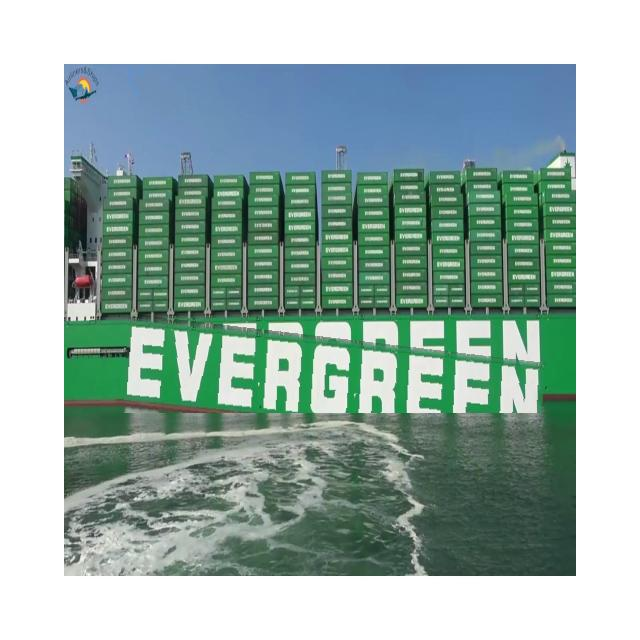OCR: (124, 313, 545, 413)
